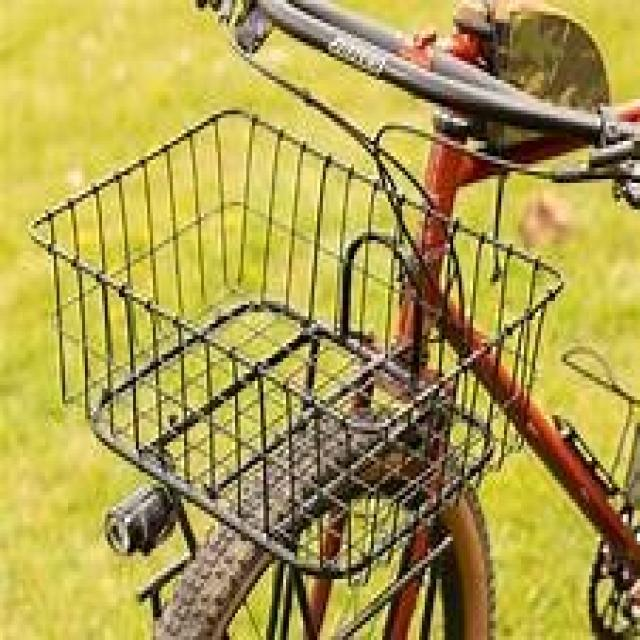basket: (23, 105, 566, 595)
